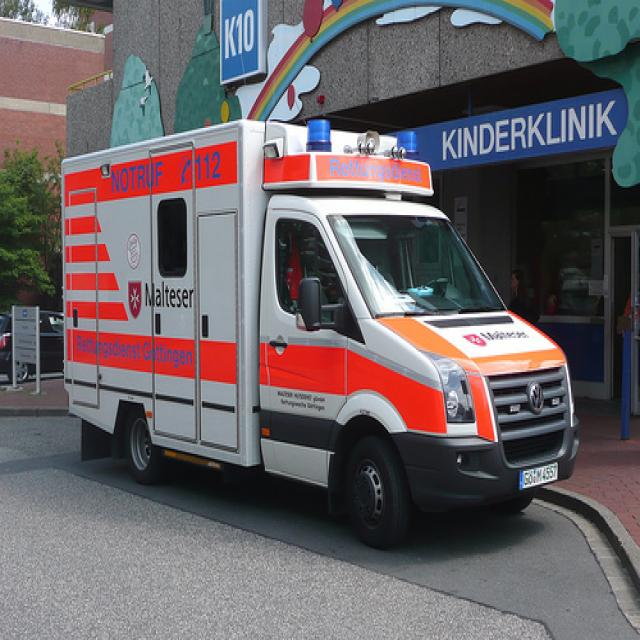emergency-vehicle: (56, 123, 575, 549)
